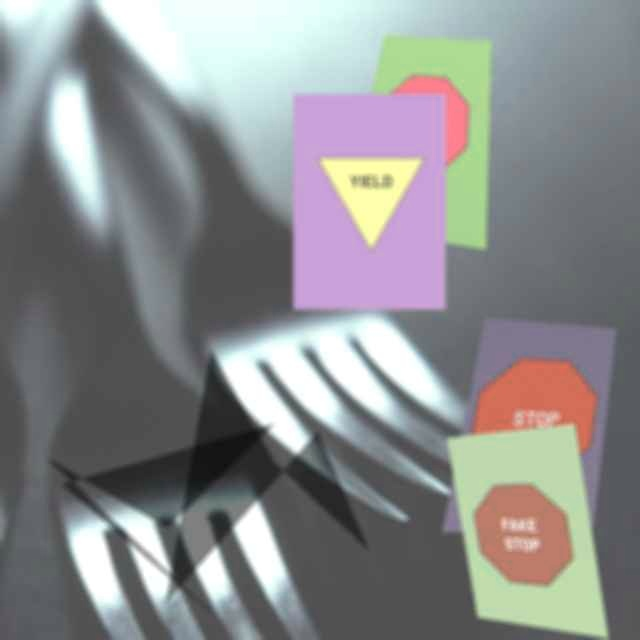FAKE_STOP: (469, 481, 579, 590)
STOP: (461, 355, 608, 486), (371, 71, 476, 181)
YIELD: (317, 158, 425, 252)
